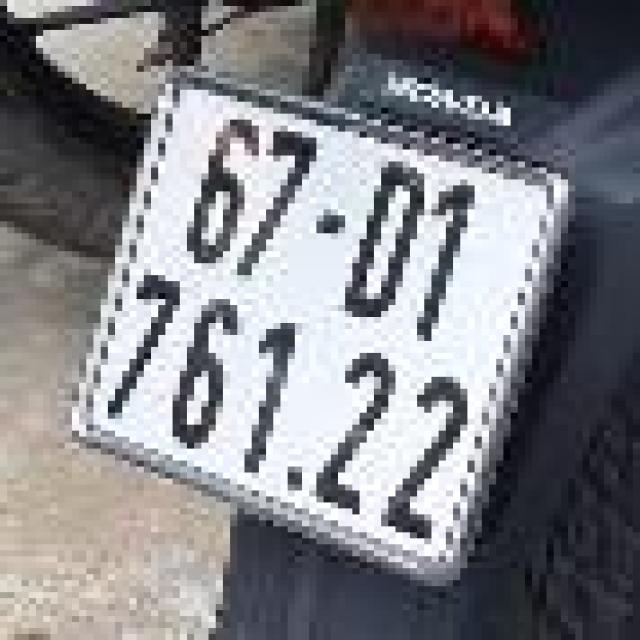1: (227, 310, 332, 491), (399, 169, 497, 353)
2: (369, 363, 493, 558), (303, 341, 421, 524)
6: (151, 286, 262, 460), (170, 109, 275, 276)
7: (221, 112, 353, 292), (90, 259, 205, 431)
D: (325, 147, 445, 337)
